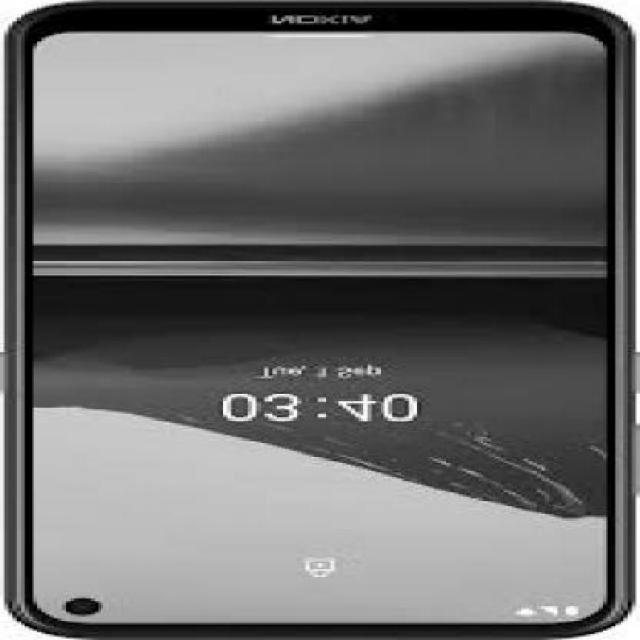fake: (4, 4, 636, 636)
